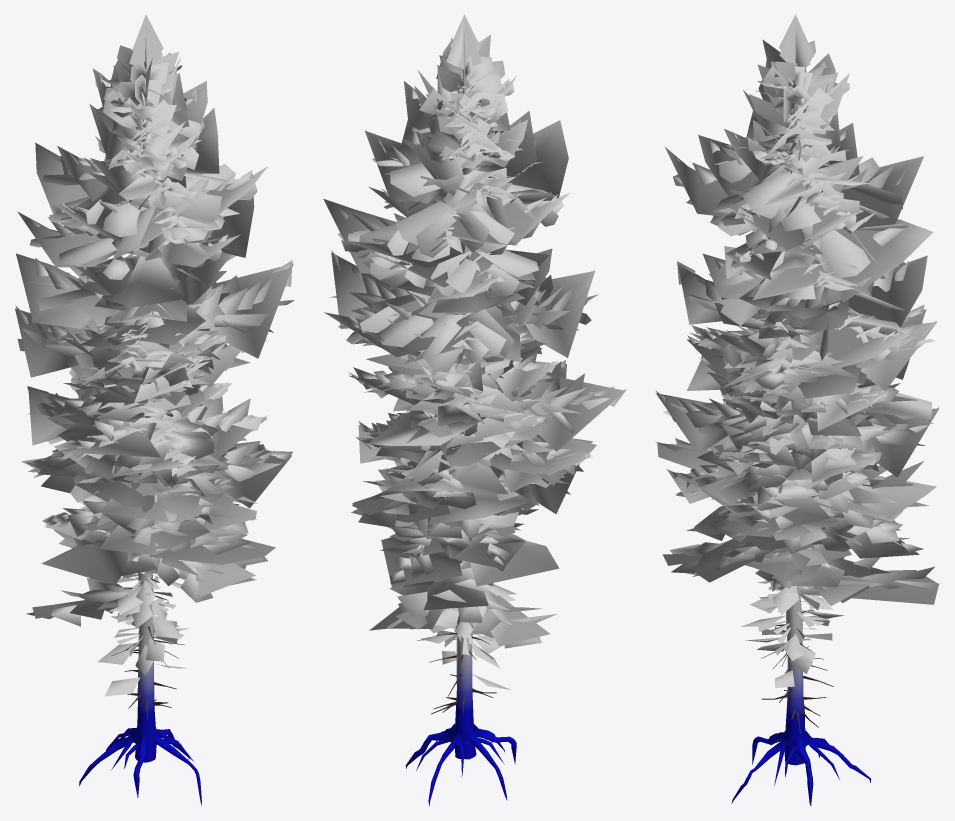
The model's file is Tree2_LOD1.fbx.
The picture shows the model from 3 angles, left to right: view 1: azimuth 30°, elevation 25°; view 2: azimuth 150°, elevation 25°; view 3: azimuth 270°, elevation 25°; orthographic projection.
Visible parts, largest first — view 1: polySurface1603; view 2: polySurface1603; view 3: polySurface1603.
Part boxes in pixels (bbox=[...]): polySurface1603: bbox=[15, 14, 294, 805]; polySurface1603: bbox=[323, 14, 626, 806]; polySurface1603: bbox=[656, 14, 940, 806].
Size of the model in its own units: 730 by 2044 by 678.
